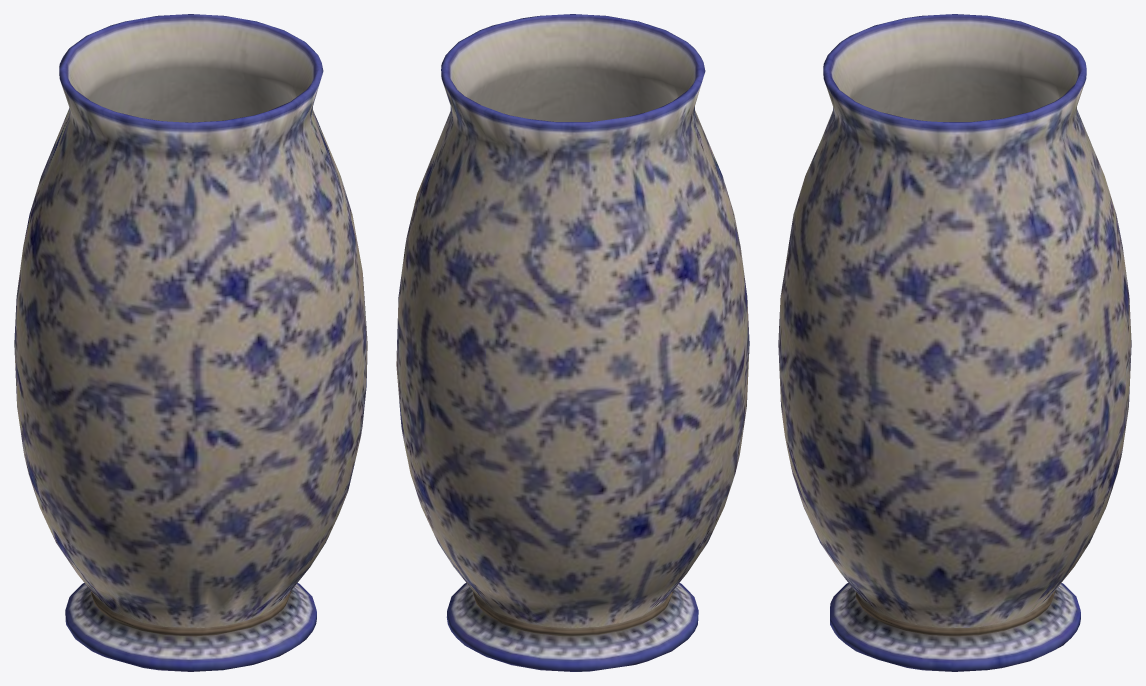
File: ceramic_vase.glb
3 renders of one model, left to right at view 1: azimuth 30°, elevation 25°; view 2: azimuth 150°, elevation 25°; view 3: azimuth 270°, elevation 25°, orthographic.
Visible parts, largest first — view 1: antique_ceramic_vase_01; view 2: antique_ceramic_vase_01; view 3: antique_ceramic_vase_01.
Part boxes in pixels (box(x1,y1,x2,y2)): antique_ceramic_vase_01: box(14, 14, 367, 671); antique_ceramic_vase_01: box(396, 14, 749, 671); antique_ceramic_vase_01: box(778, 14, 1131, 671).
Bounding box in the file's own units: 0.255 × 0.4396 × 0.255.
1 material, 1 textured.
